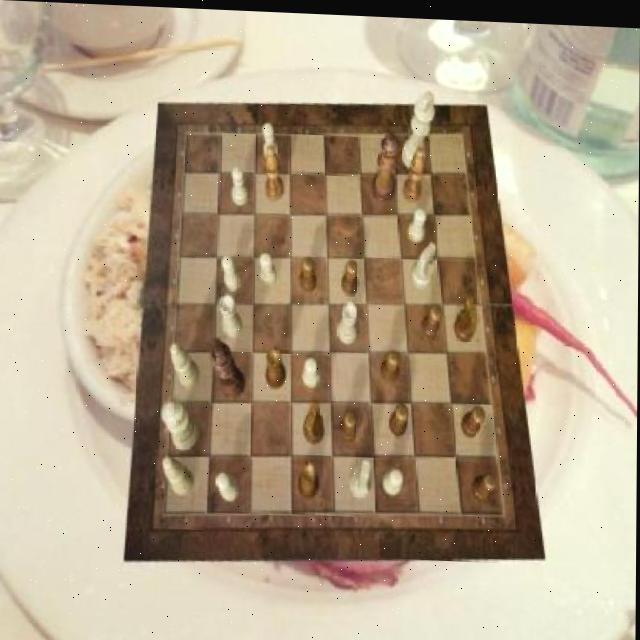bishop: (402, 142, 424, 199), (266, 142, 284, 198)
black-bishop: (208, 336, 244, 398)
black-king: (453, 291, 478, 338), (303, 398, 324, 442)
black-knight: (471, 467, 497, 499), (462, 401, 486, 434), (381, 347, 401, 382), (421, 300, 441, 335), (389, 400, 409, 434), (298, 253, 316, 290), (342, 257, 360, 293), (340, 407, 357, 440)
black-pawn: (370, 128, 399, 200)
black-queen: (266, 345, 288, 387), (299, 458, 319, 497)
black-rook: (169, 341, 200, 387), (163, 455, 194, 494)
white-bishop: (402, 87, 435, 168)
white-king: (411, 238, 435, 286), (350, 456, 373, 495)
white-knight: (221, 253, 242, 288), (231, 165, 249, 203), (217, 471, 240, 500), (407, 204, 426, 239), (262, 120, 279, 159), (259, 251, 277, 285), (383, 464, 403, 492), (303, 354, 321, 385)
white-pawn: (161, 395, 199, 450)
white-queen: (218, 292, 241, 336), (338, 298, 358, 341)
